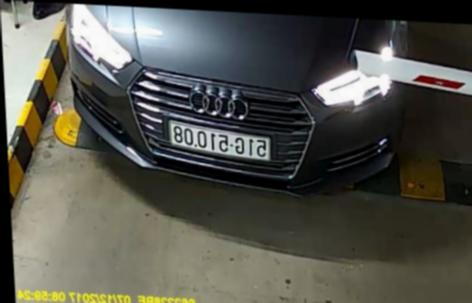License_Plate: (163, 125, 277, 165)
